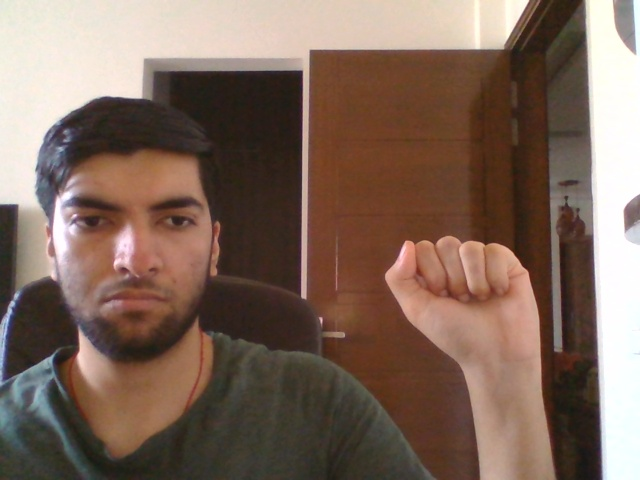LetterA: (382, 234, 543, 378)
